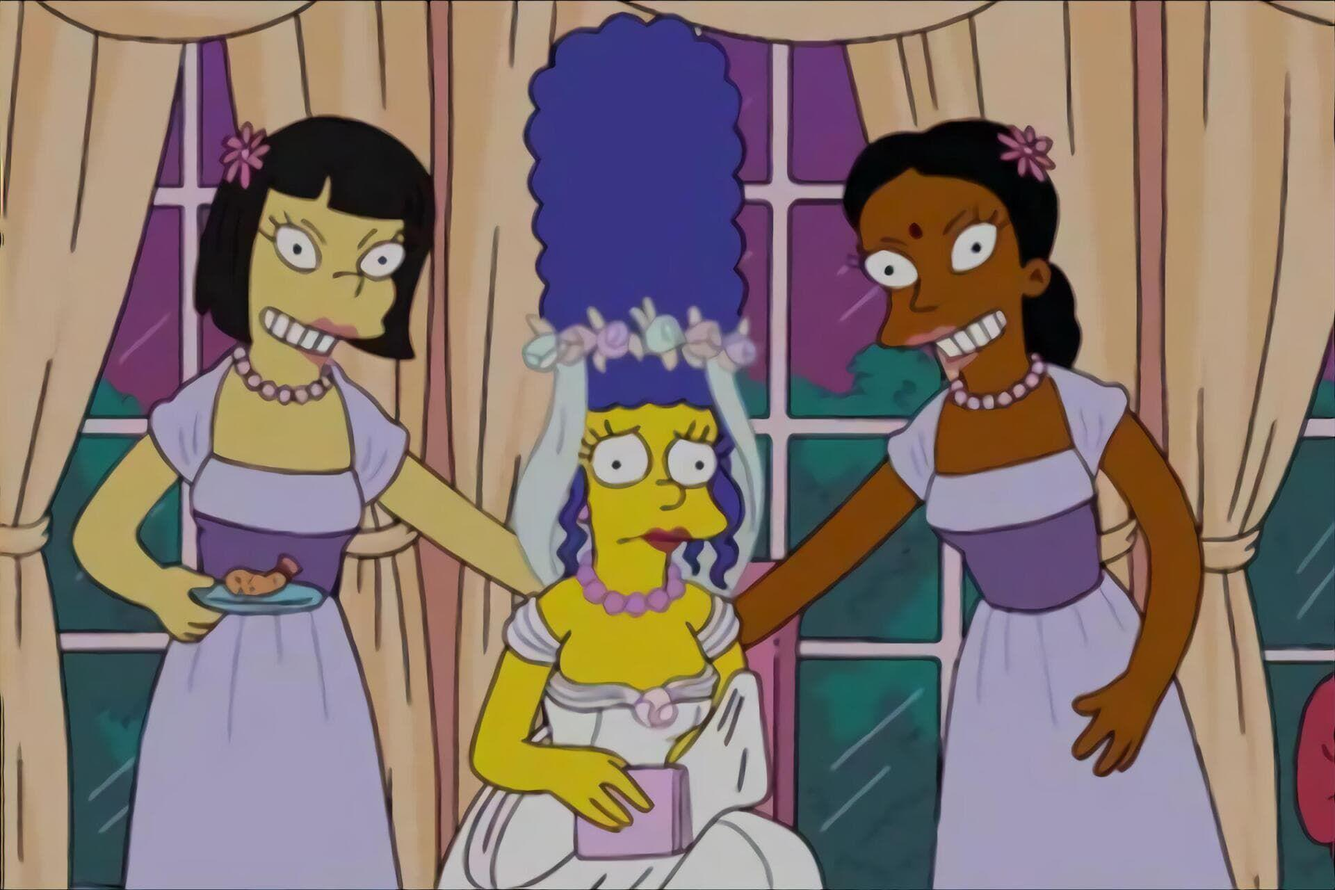Marge: (475, 9, 825, 890)
